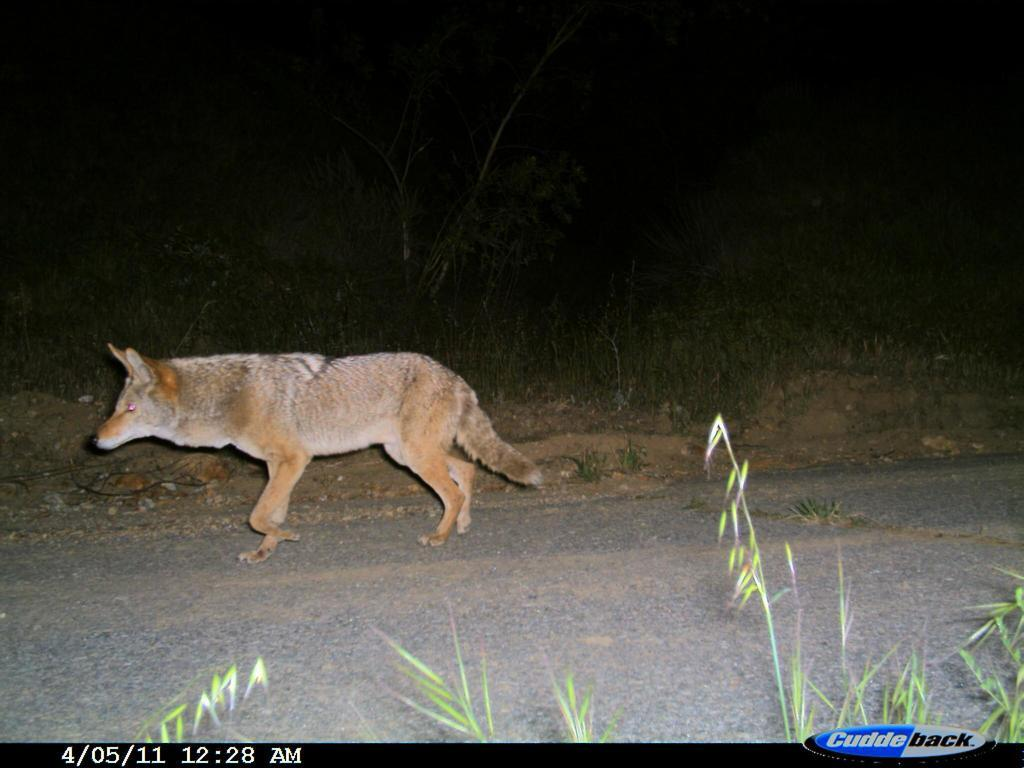coyote: (86, 336, 550, 568)
